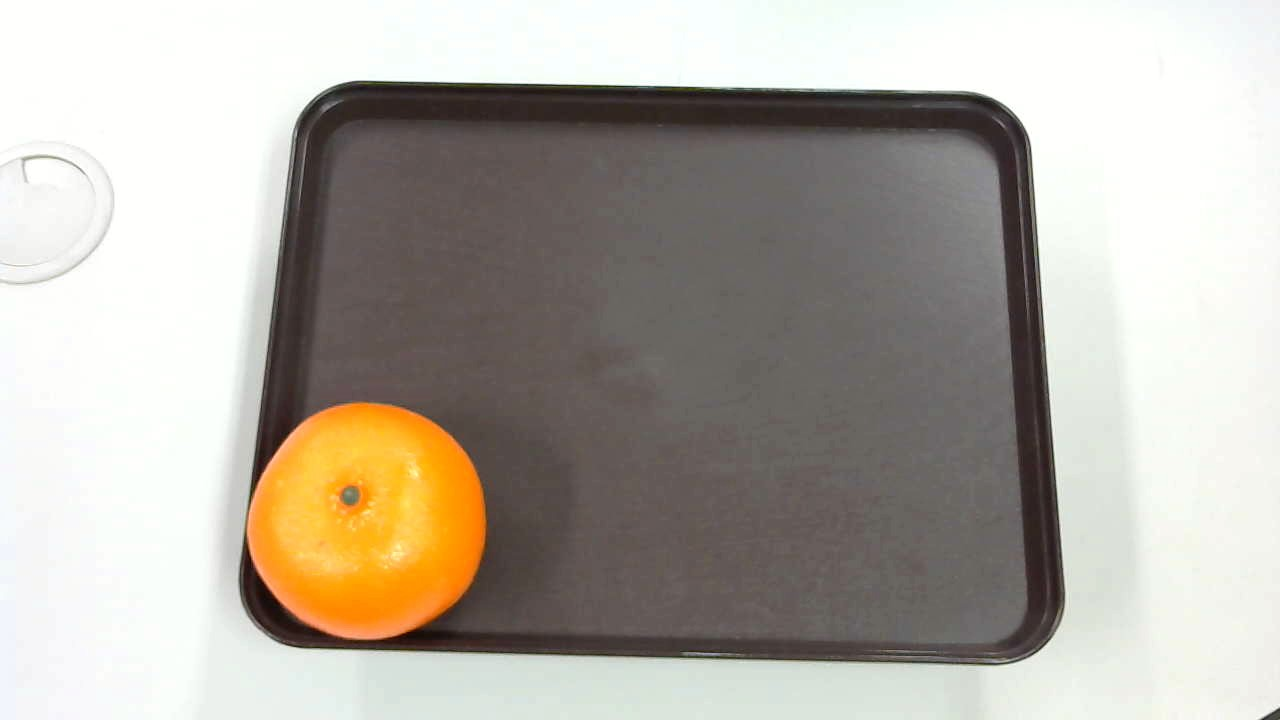orange: (239, 402, 488, 639)
